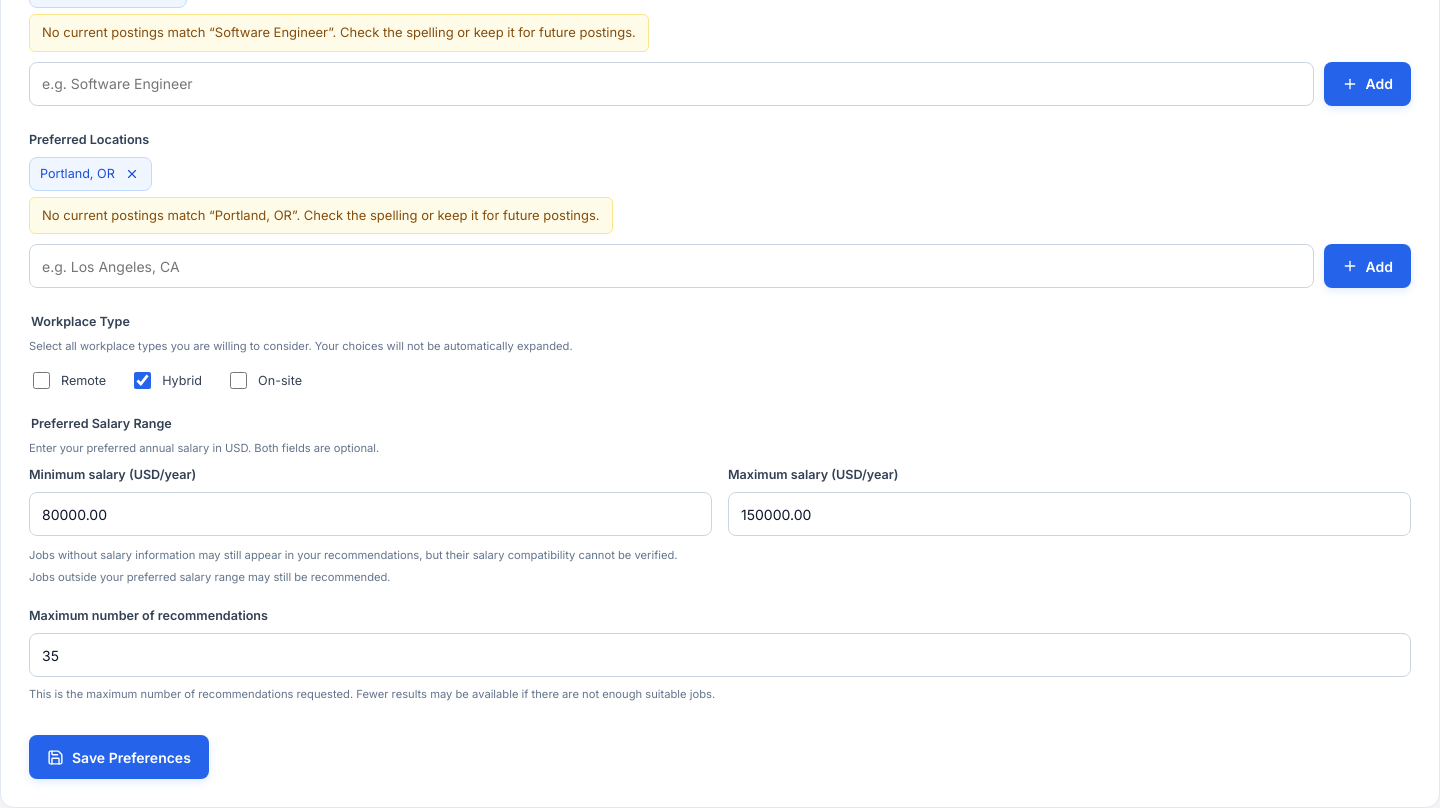
Test: SearchPreferencesForm (JH-021) › shows field-level details for a 422 validation error
The width and height of the screenshot is (1440, 808).
(page scrolled)
Click the button "Save Preferences" at {"x": 119, "y": 757}, box [29,735,209,779]
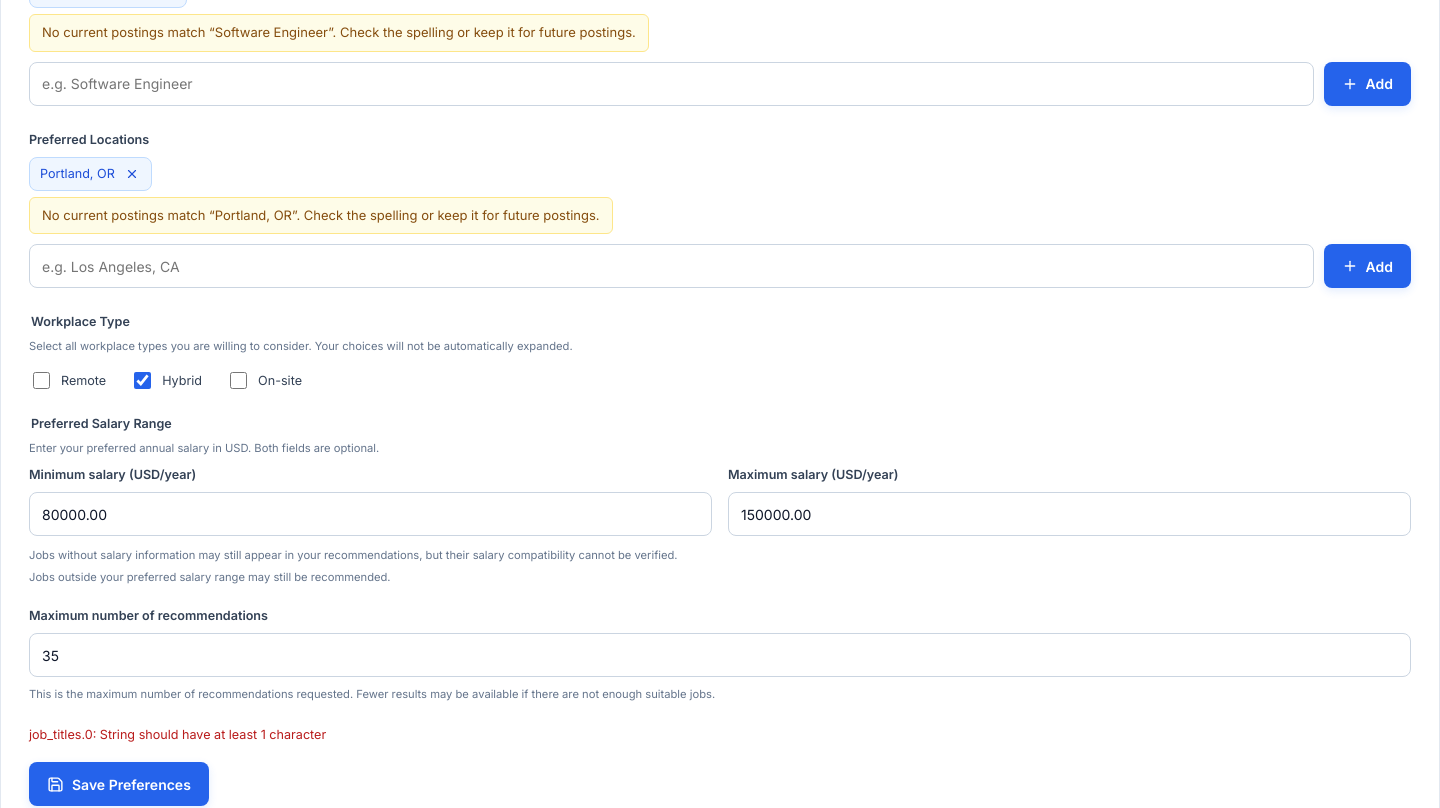
Expected: the message "job_titles.0: String should have at least 1 character" does not show "Request validation failed", [29,727,326,742]
Expected: the message "job_titles.0: String should have at least 1 character" is shown, [29,727,326,742]
